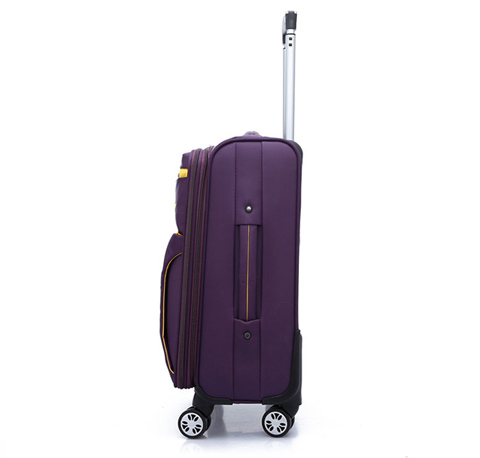luggage: (161, 9, 306, 438)
